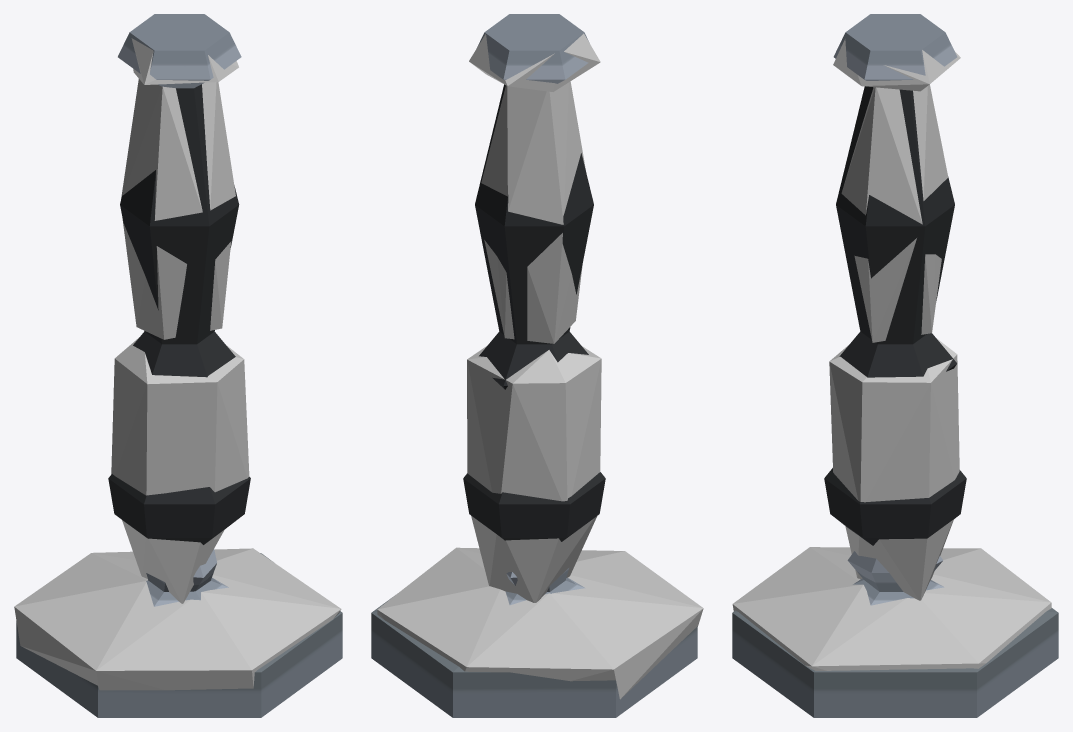
File: SM_Item_Wax_Seal_01.fbx
The picture shows the model from 3 angles, left to right: view 1: azimuth 30°, elevation 25°; view 2: azimuth 150°, elevation 25°; view 3: azimuth 270°, elevation 25°; orthographic projection.
Parts seen in each view (by area): view 1: SM_Item_Wax_Seal_01_ConvexHulls, SM_Item_Wax_Seal_01; view 2: SM_Item_Wax_Seal_01_ConvexHulls, SM_Item_Wax_Seal_01; view 3: SM_Item_Wax_Seal_01_ConvexHulls, SM_Item_Wax_Seal_01.
Part boxes in pixels (x1,y1,x2,y2): SM_Item_Wax_Seal_01_ConvexHulls: [14, 38, 341, 690]; SM_Item_Wax_Seal_01: [16, 14, 342, 717]; SM_Item_Wax_Seal_01_ConvexHulls: [377, 33, 703, 699]; SM_Item_Wax_Seal_01: [371, 14, 697, 717]; SM_Item_Wax_Seal_01_ConvexHulls: [732, 39, 1051, 670]; SM_Item_Wax_Seal_01: [732, 14, 1058, 717].
Bounding box in the file's own units: 7.22 × 8.2 × 17.36.
Materials: 2 (1 with a texture image).
